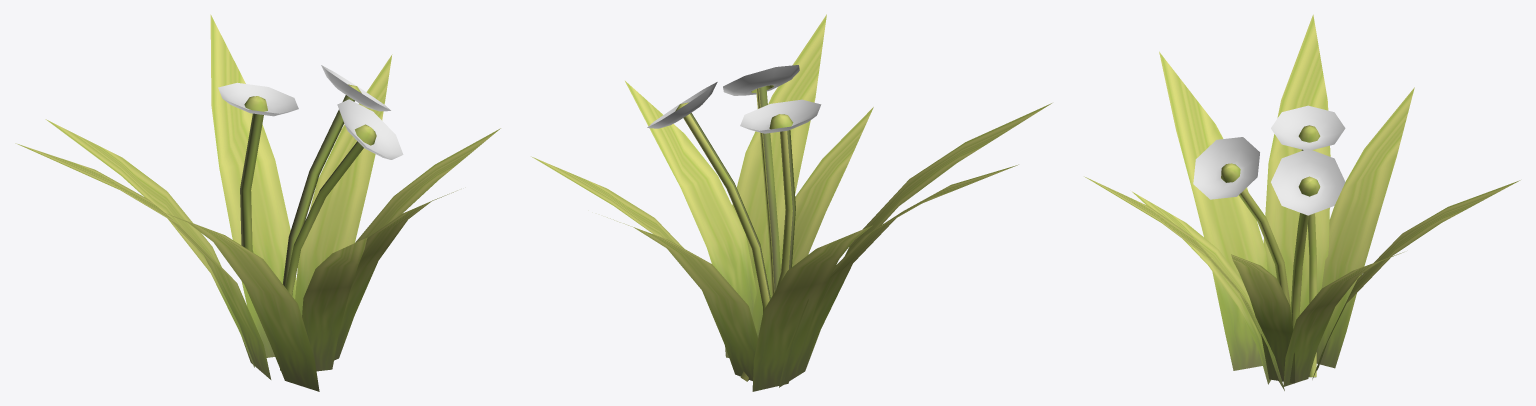
Rendered from flower2.fbx.
3 views of the same model, side by side, from view 1: azimuth 30°, elevation 25°; view 2: azimuth 150°, elevation 25°; view 3: azimuth 270°, elevation 25° (orthographic). The views are drawn at different scales.
Visible parts, largest first — view 1: Plane.001; view 2: Plane.001; view 3: Plane.001.
Part boxes in pixels (<box>): Plane.001: <box>15,14,500,391</box>; Plane.001: <box>531,14,1051,391</box>; Plane.001: <box>1084,14,1520,390</box>.
Size of the model in its own units: 50.27 by 30.66 by 49.36.
